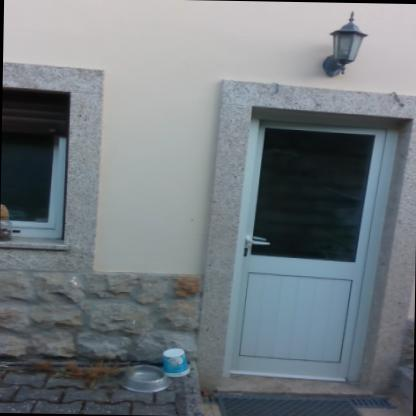closed: (210, 91, 414, 408)
